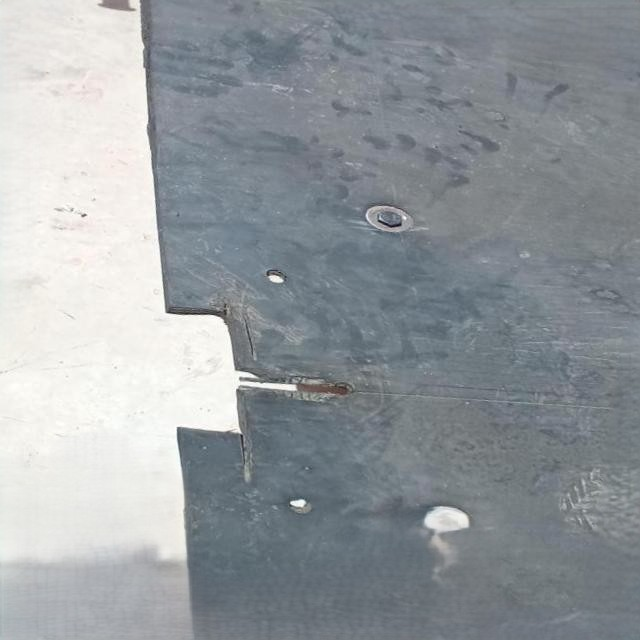Hole: (284, 492, 314, 516), (261, 264, 288, 286)
Tear: (170, 301, 356, 482), (235, 314, 258, 360)
